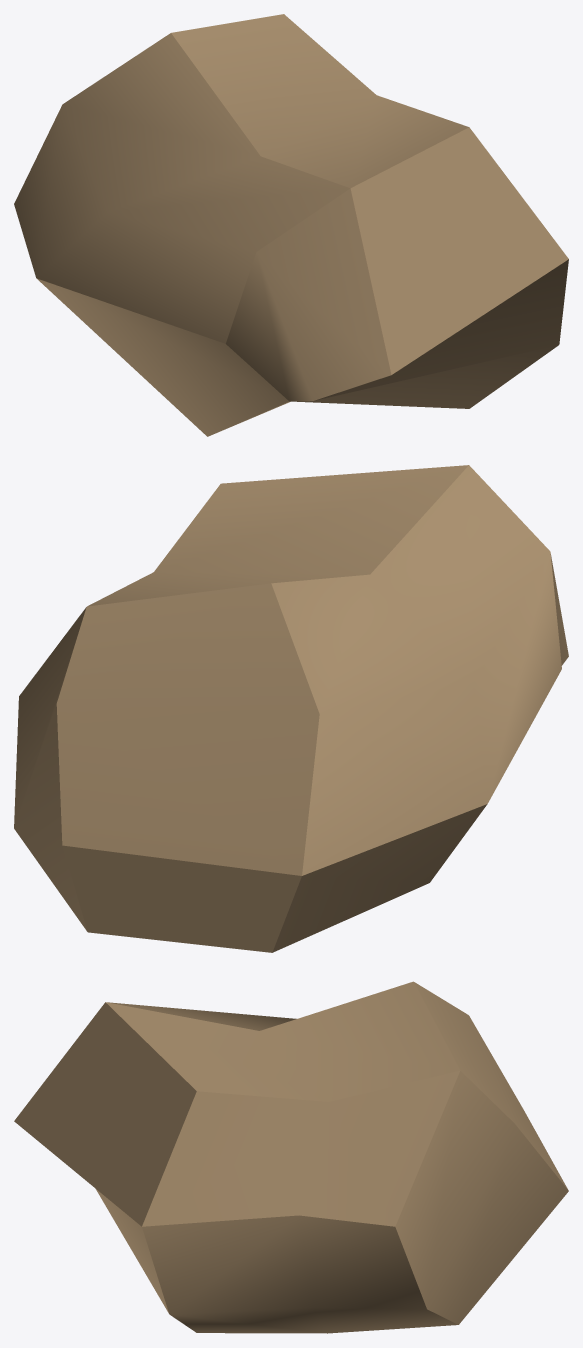
File: Rock 2.fbx
3 views of the same model, one above another, from view 1: azimuth 30°, elevation 25°; view 2: azimuth 150°, elevation 25°; view 3: azimuth 270°, elevation 25° (orthographic). The views are drawn at different scales.
Parts seen in each view (by area): view 1: pPlatonic1; view 2: pPlatonic1; view 3: pPlatonic1.
Boxes of the visible parts, bbox=[...] form: pPlatonic1: bbox=[14, 14, 568, 436]; pPlatonic1: bbox=[14, 465, 568, 952]; pPlatonic1: bbox=[14, 981, 568, 1333].
Bounding box in the file's own units: 2.23 × 1.74 × 3.04.
